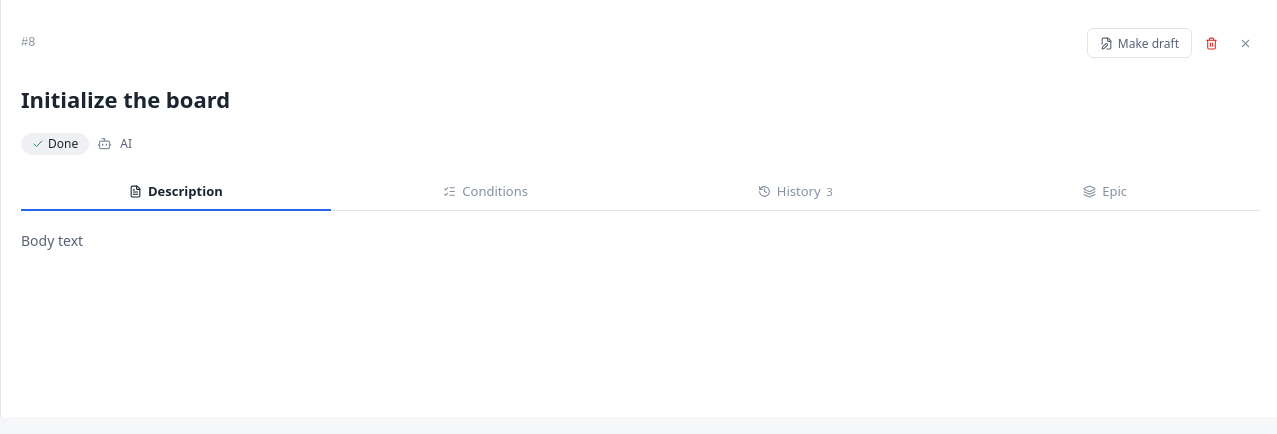
Test case: tabs › shows the history in the History tab and the description again in the Description tab
The image size is (1277, 434).
Expected: the panel reads "Body text", [21,231,83,250]
Click the tab "History 3" at (795, 192), box [640,173,950,211]
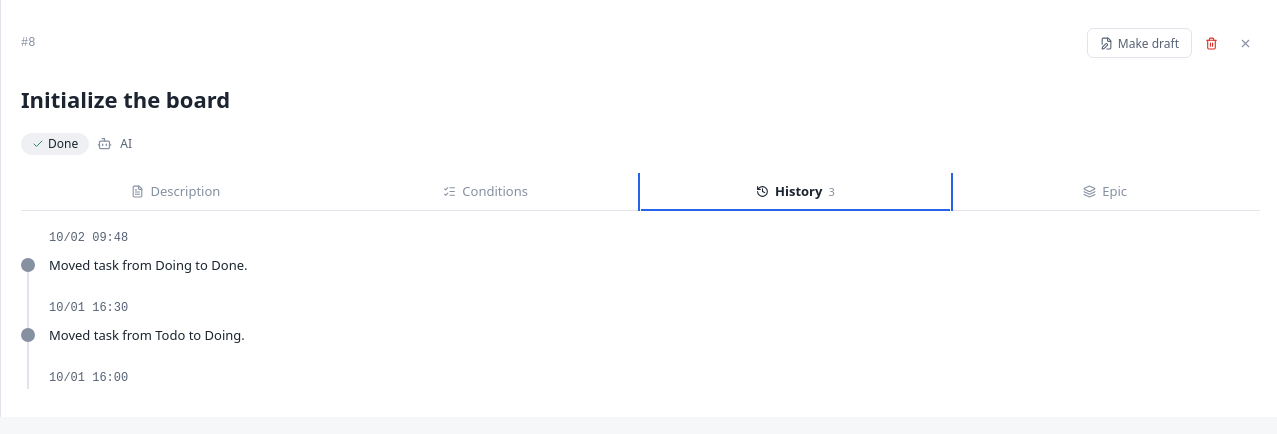
Now the number of list items with class "history__step" is 3
Now the text "Body text" is gone
Click the tab "Description" at (176, 192), box [21,173,331,211]
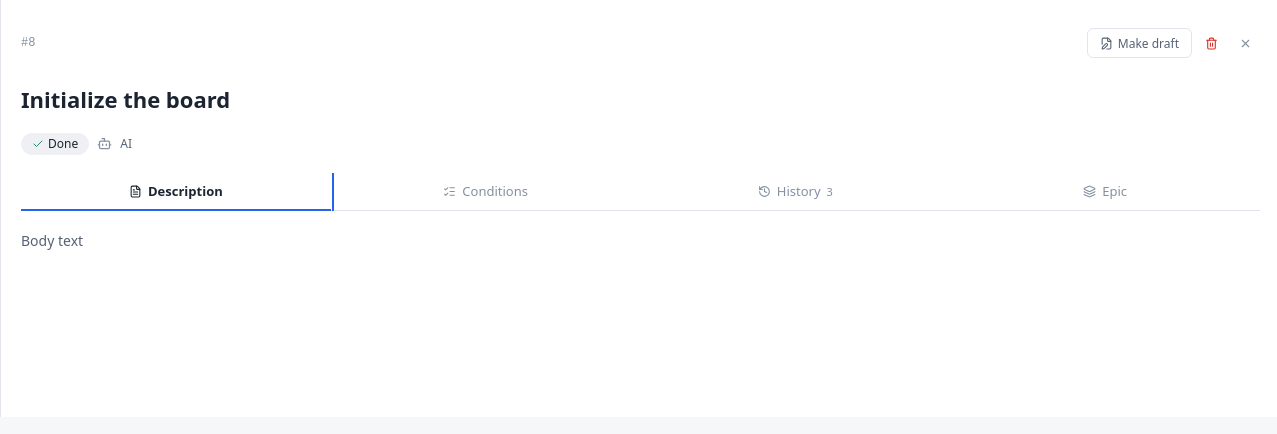
Now the panel reads "Body text", box [21,231,83,250]
